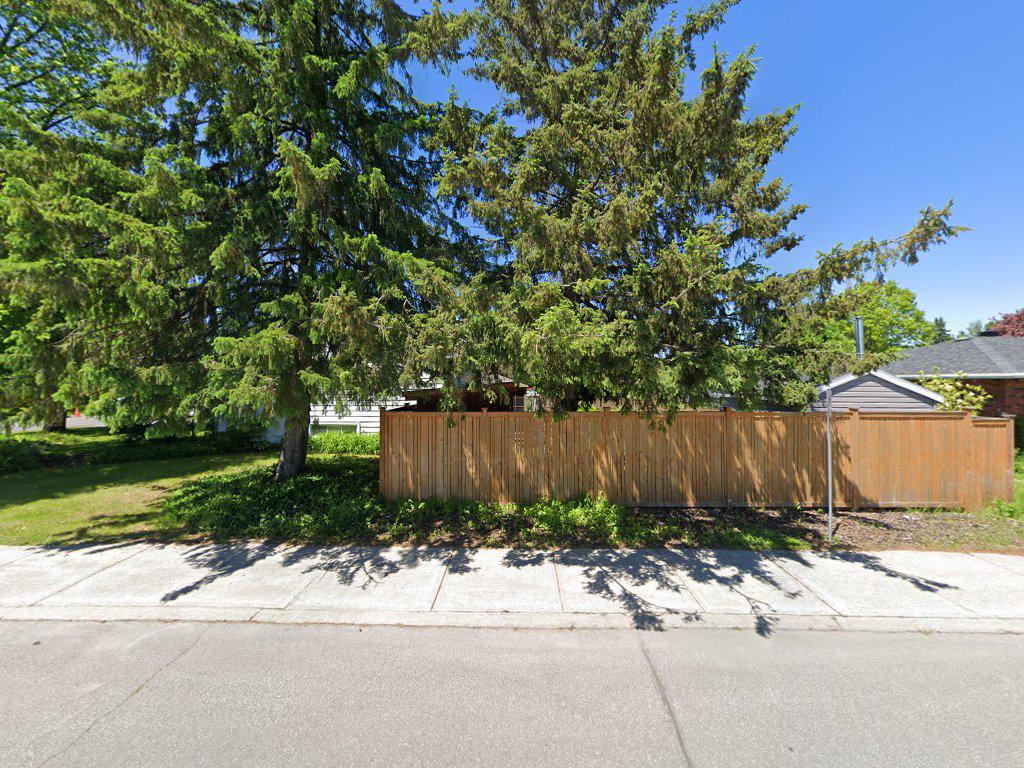trunk: (276, 394, 312, 501)
